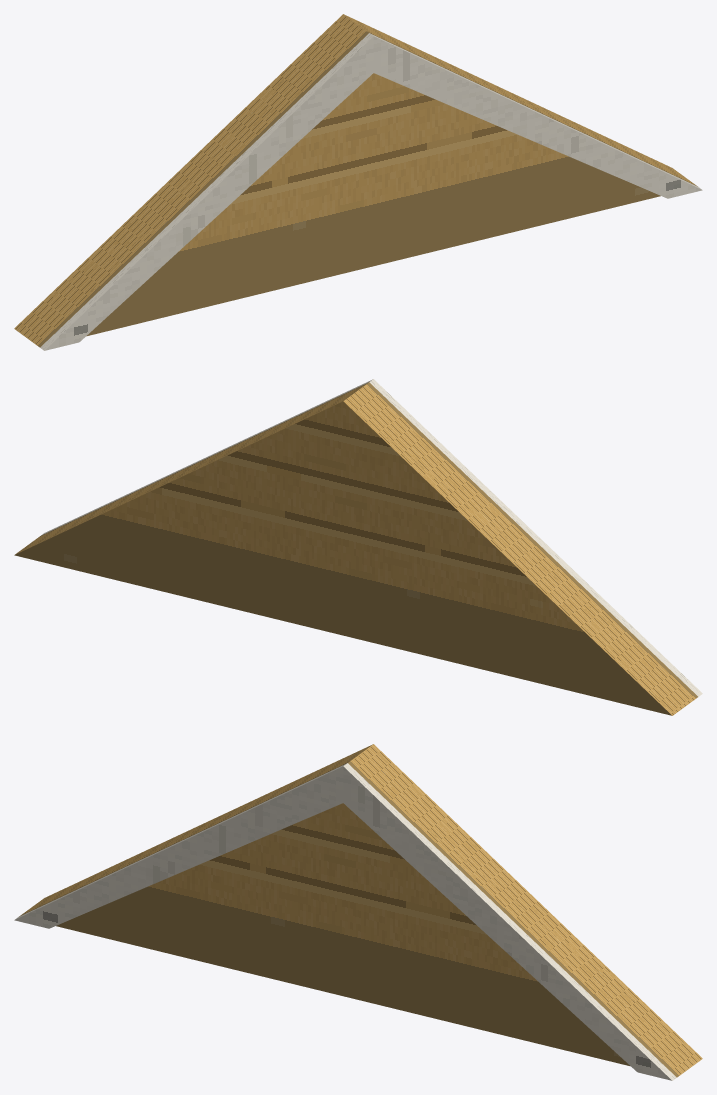
File: house_03_gable.glb
3 views of the same model, one above another, from view 1: azimuth 30°, elevation 25°; view 2: azimuth 150°, elevation 25°; view 3: azimuth 330°, elevation 25° (orthographic).
Parts seen in each view (by area): view 1: house_03_gable; view 2: house_03_gable; view 3: house_03_gable.
Boxes of the visible parts, x1=… form: house_03_gable: x1=14, y1=14, x2=702, y2=350; house_03_gable: x1=14, y1=379, x2=702, y2=715; house_03_gable: x1=14, y1=744, x2=702, y2=1080.
Size of the model in its own units: 3 by 1.02 by 0.24.
Materials: 2 (2 with a texture image).
